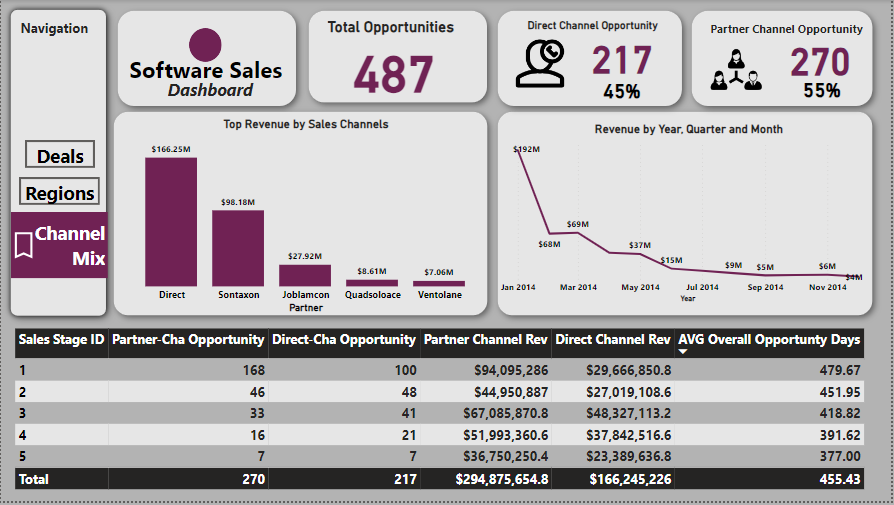

Layout of this report page (visuals, bound fields, positions):
{"tool":"powerbi","page":{"name":"Channel Mix","canvas":[1280,720],"ordinal":2},"visuals":[{"type":"shape","box":[699.9,146.6,566.2,320.5],"z":0},{"type":"shape","box":[0,0,164.8,467.6],"z":1000},{"type":"shape","box":[153.1,1.7,284.3,164.8],"z":2000},{"type":"textbox","box":[180,72.3,329.7,52.1],"z":3000},{"type":"shape","box":[428.9,1.7,284.3,159.8],"z":4000},{"type":"shape","box":[699.7,1.7,292.7,164.8],"z":5000},{"type":"shape","box":[978.9,1.7,287.6,164.8],"z":6000},{"type":"textbox","box":[233.8,106,222,58.9],"z":7000},{"type":"shape","box":[270.8,40.4,47.1,48.8],"z":8000},{"type":"card","title":"Total Opportunities","fields":{"Values":["Measure.Total Opportunities"]},"box":[464.2,25.2,200.2,116.1],"z":9000},{"type":"card","fields":{"Values":["Measure.% Direct opportunity"]},"box":[849.4,100.9,85.8,57.2],"z":10000},{"type":"card","fields":{"Values":["Measure.% partner opportunity"]},"box":[1128.6,89.1,102.6,79.1],"z":11000},{"type":"card","title":"Direct Channel Opportunity","fields":{"Values":["Measure.Direct Channel Opportunities"]},"box":[751.9,26.9,280.9,85.8],"z":12000},{"type":"card","title":"Partner Channel Opportunity","fields":{"Values":["Measure.Partner Channel Opportunities"]},"box":[1088.3,40.4,178.3,84.1],"z":13000},{"type":"image","box":[731.7,16.8,85.8,148],"z":14000},{"type":"image","box":[979.5,61.1,152.8,76.4],"z":15000},{"type":"textbox","box":[994.1,25.2,269.1,47.1],"z":16000},{"type":"textbox","box":[23.5,23.5,116.1,52.1],"z":17000},{"type":"shape","box":[148,146.6,564.8,320.5],"z":20000},{"type":"tableEx","fields":{"Values":["Fact.Sales Stage ID","Measure.Partner Channel Opportunities","Measure.Direct Channel Opportunities","Measure.Partner Channel Revenue","Measure.All Sales Stage Direct Revenue","Measure.AVG Overall Opportunty Days"]},"box":[14.4,467.1,1266.1,252.9],"z":21000},{"type":"clusteredColumnChart","title":"Top Revenue by Sales Channels","fields":{"Y":["Sum(Fact.FactoredProductRevenue)"],"Category":["Partner.Partner"]},"box":[163.8,168.1,549,287.4],"z":22000},{"type":"lineChart","title":"Revenue by Year, Quarter and Month","fields":{"Y":["Sum(Fact.FactoredProductRevenue)"],"Category":["Fact.Create Date.Variation.Date Hierarchy.Year","Fact.Create Date.Variation.Date Hierarchy.Quarter","Fact.Create Date.Variation.Date Hierarchy.Month"]},"box":[712.8,175.3,551.9,264.4],"z":23000},{"type":"actionButton","box":[14.4,304.7,139.4,94.9],"z":25000},{"type":"actionButton","box":[25.9,254.4,116.4,40.2],"z":26000},{"type":"actionButton","box":[34.5,201.2,100.6,40.2],"z":27000}]}

Visuals, with their boxes in screenshot pixels (x1, y1, x2, y2), scaled from the page's 1280x720 canvas onto the 894x505 screenshot:
shape: box=[489, 103, 884, 328]
shape: box=[0, 0, 115, 328]
shape: box=[107, 1, 305, 117]
textbox: box=[126, 51, 356, 87]
shape: box=[300, 1, 498, 113]
shape: box=[489, 1, 693, 117]
shape: box=[684, 1, 885, 117]
textbox: box=[163, 74, 318, 116]
shape: box=[189, 28, 222, 63]
"Total Opportunities" card: box=[324, 18, 464, 99]
card - Measure.% Direct opportunity: box=[593, 71, 653, 111]
card - Measure.% partner opportunity: box=[788, 62, 860, 118]
"Direct Channel Opportunity" card: box=[525, 19, 721, 79]
"Partner Channel Opportunity" card: box=[760, 28, 885, 87]
image: box=[511, 12, 571, 116]
image: box=[684, 43, 791, 96]
textbox: box=[694, 18, 882, 51]
textbox: box=[16, 16, 98, 53]
shape: box=[103, 103, 498, 328]
tableEx - Fact.Sales Stage ID x Measure.Partner Channel Opportunities: box=[10, 328, 893, 504]
"Top Revenue by Sales Channels" clusteredColumnChart: box=[114, 118, 498, 319]
"Revenue by Year, Quarter and Month" lineChart: box=[498, 123, 883, 308]
actionButton: box=[10, 214, 107, 280]
actionButton: box=[18, 178, 99, 207]
actionButton: box=[24, 141, 94, 169]
